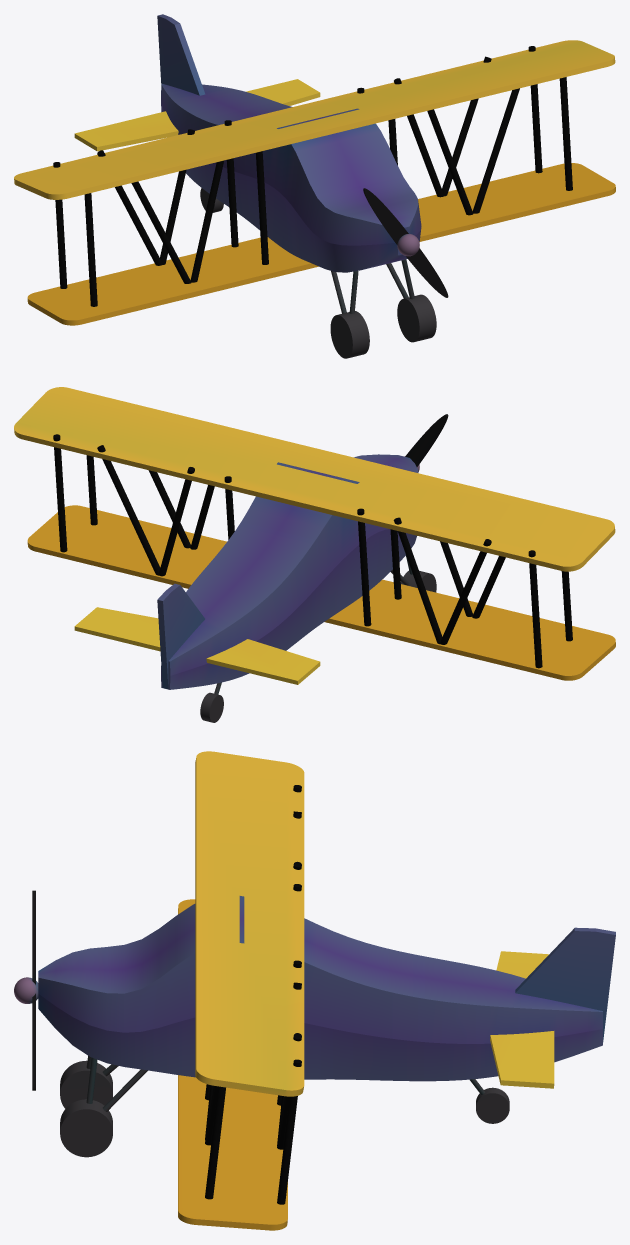
3 renders of one model, top to bottom at view 1: azimuth 30°, elevation 25°; view 2: azimuth 150°, elevation 25°; view 3: azimuth 270°, elevation 25°, orthographic. The views are drawn at different scales.
Parts seen in each view (by area): view 1: body, upper, lower, tailplane, fin, wheel, wheel.001, blades, diagonal, diagonal.005, diagonal.004, upright.006 (+10 smaller); view 2: upper, body, lower, tailplane, fin, diagonal.002, diagonal.007, upright.003, upright.007, upright.005, diagonal.006, diagonal.003 (+9 smaller); view 3: body, upper, lower, fin, tailplane, wheel, wheel.001, upright.003, tail_wheel, upright.002, blades.
Part boxes in pixels (bbox=[...]): body: bbox=[161, 84, 421, 272]; upper: bbox=[14, 40, 615, 199]; lower: bbox=[27, 163, 615, 325]; tailplane: bbox=[74, 79, 320, 151]; fin: bbox=[157, 14, 205, 95]; wheel: bbox=[397, 294, 436, 342]; wheel.001: bbox=[330, 311, 369, 358]; blades: bbox=[363, 188, 448, 297]; diagonal: bbox=[472, 88, 519, 213]; diagonal.005: bbox=[190, 160, 224, 282]; diagonal.004: bbox=[131, 181, 191, 283]; upright.006: bbox=[84, 193, 97, 306]; upper: bbox=[14, 387, 615, 571]; body: bbox=[161, 454, 418, 689]; lower: bbox=[27, 505, 615, 680]; tailplane: bbox=[74, 607, 320, 684]; fin: bbox=[157, 583, 204, 689]; diagonal.002: bbox=[97, 445, 160, 575]; diagonal.007: bbox=[393, 517, 442, 644]; upright.003: bbox=[53, 434, 67, 552]; upright.007: bbox=[528, 550, 542, 668]; upright.005: bbox=[357, 508, 371, 626]; diagonal.006: bbox=[440, 539, 491, 644]; diagonal.003: bbox=[159, 467, 194, 576]; body: bbox=[38, 896, 602, 1081]; upper: bbox=[195, 751, 304, 1096]; lower: bbox=[178, 899, 287, 1230]; fin: bbox=[515, 927, 615, 1041]; tailplane: bbox=[490, 951, 554, 1088]; wheel: bbox=[60, 1099, 112, 1157]; wheel.001: bbox=[60, 1060, 112, 1108]; upright.003: bbox=[277, 1059, 301, 1204]; tail_wheel: bbox=[476, 1087, 509, 1123]; upright.002: bbox=[205, 1086, 225, 1199]; blades: bbox=[32, 890, 35, 1090].
Bounding box in the file's own units: 9 × 2.82 × 6.99.
